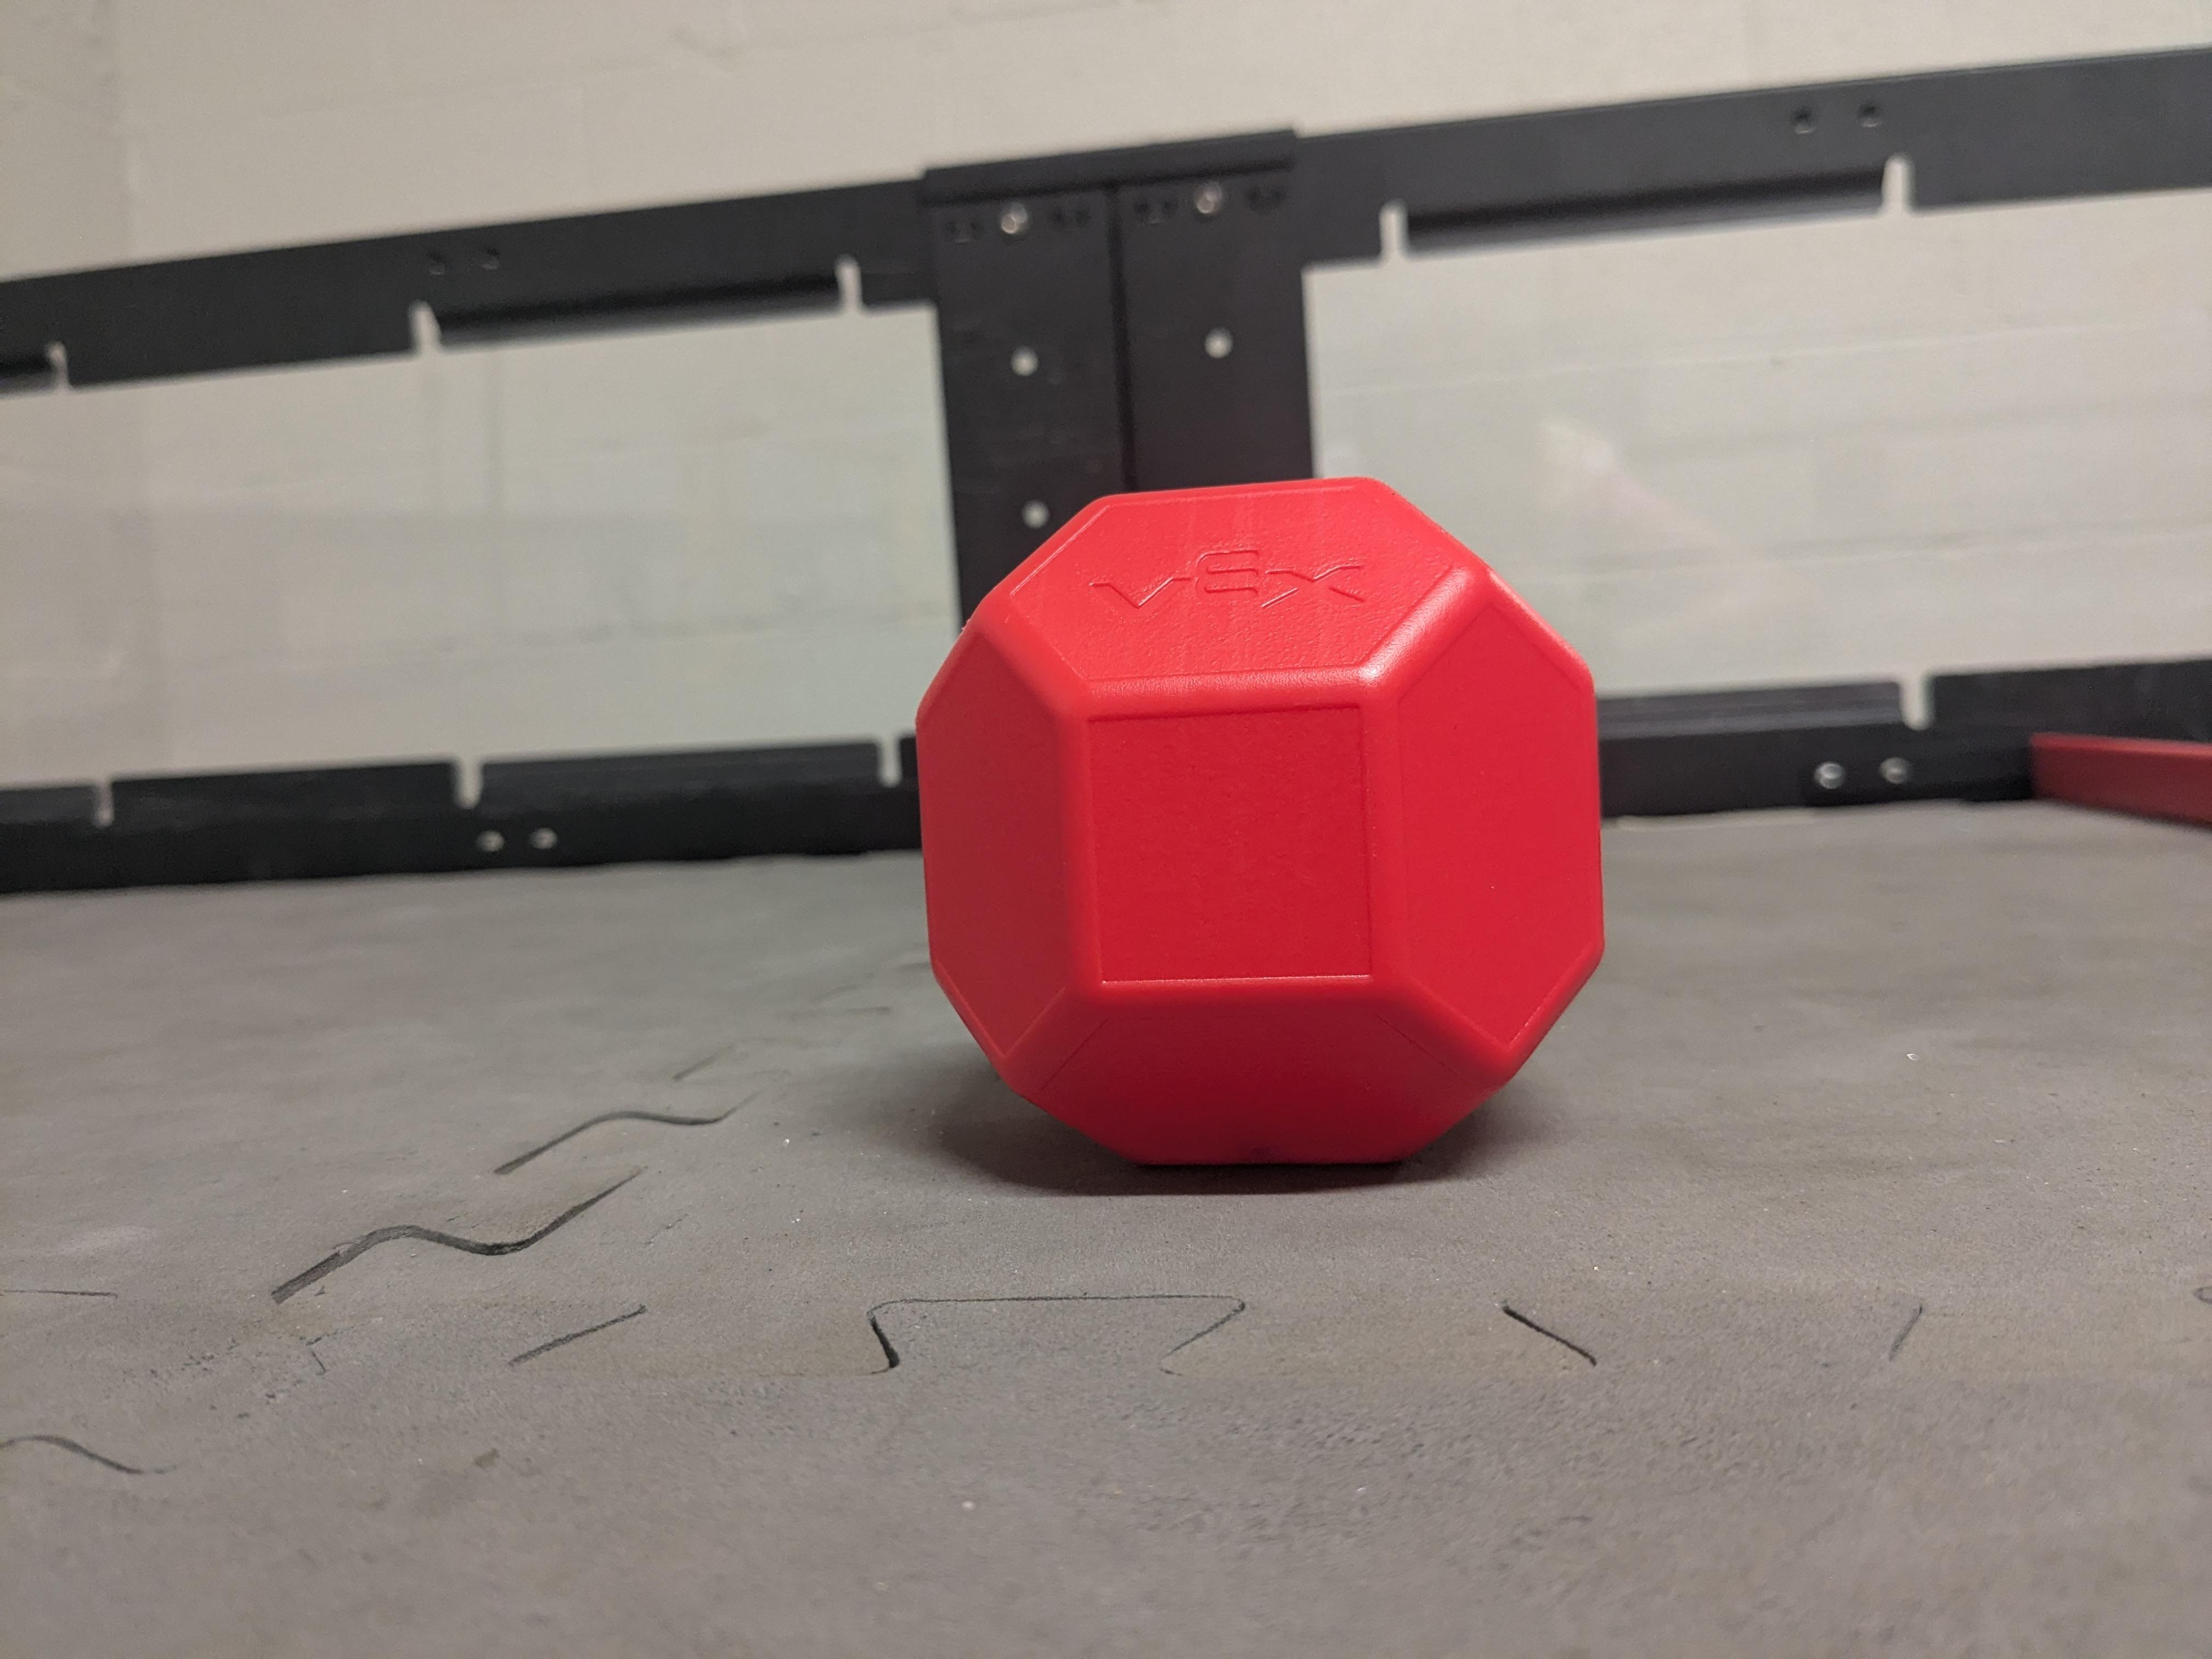Vex-Pieces-RED: (916, 477, 1608, 1169)
